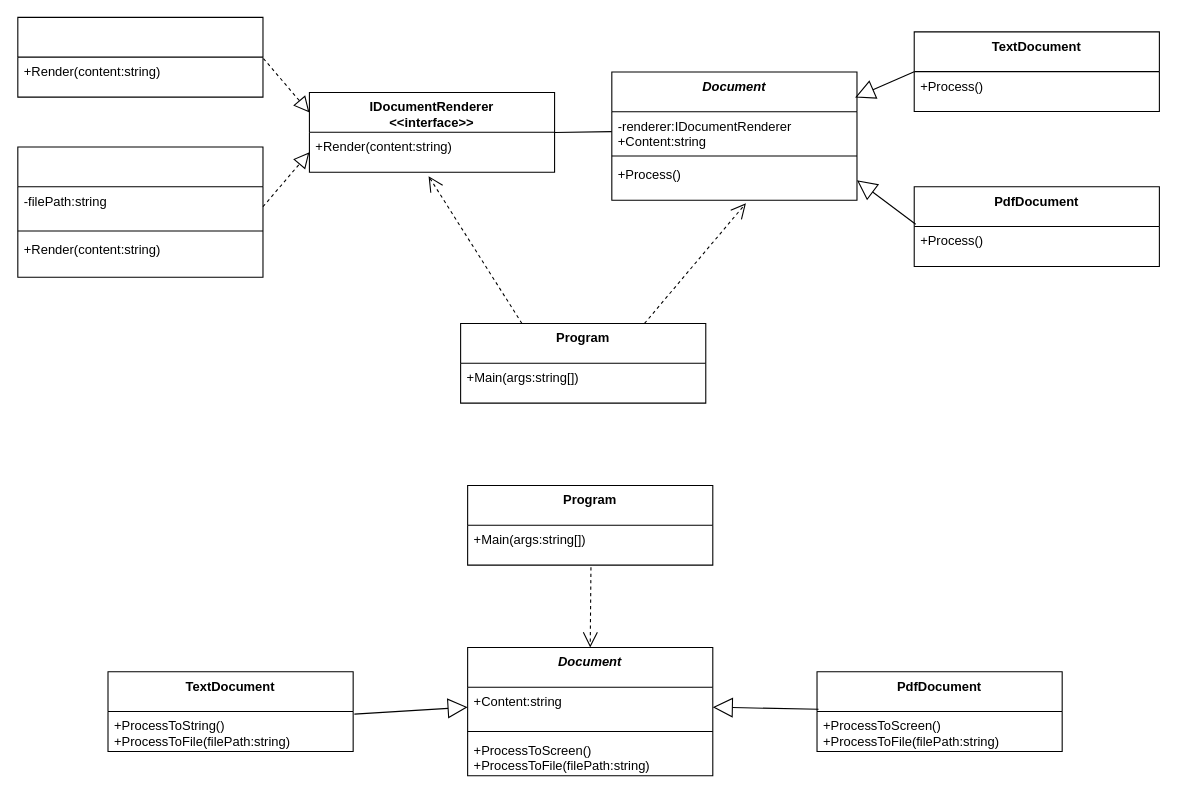
The diagram is 1177 pixels wide and 794 high, and some of its shapes have lost their labels. Each missing label, with the box of its shape:
FileRenderer: (17, 146, 263, 277)
ScreenRenderer: (17, 16, 263, 97)
